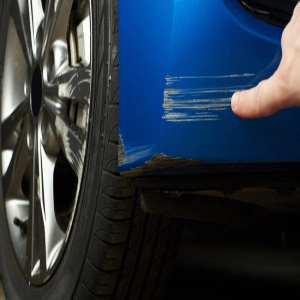bumper_scratch: (112, 55, 232, 172)
